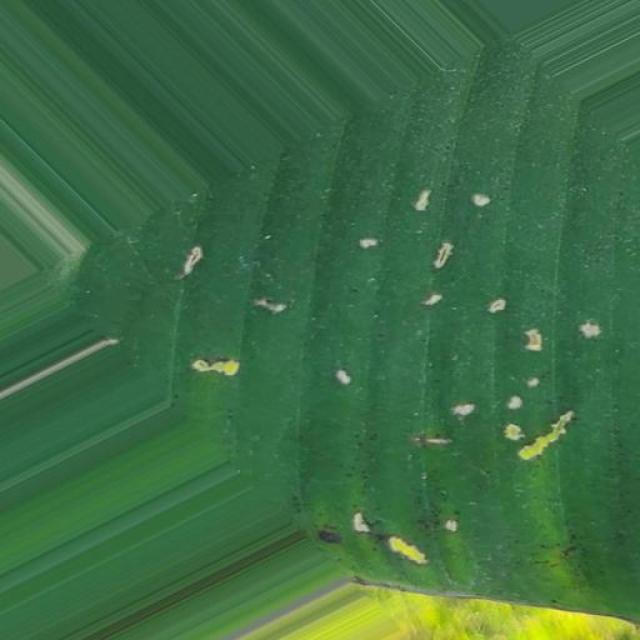Black_rot: (131, 150, 640, 640)
